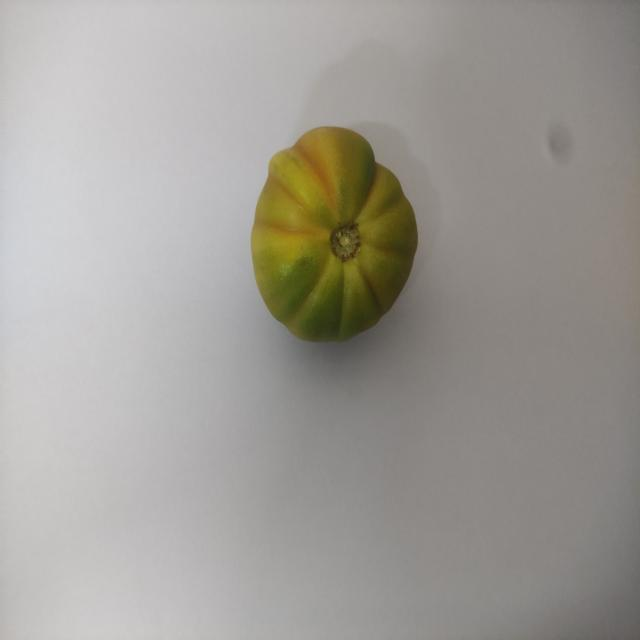unripe tomato: (242, 118, 439, 369)
